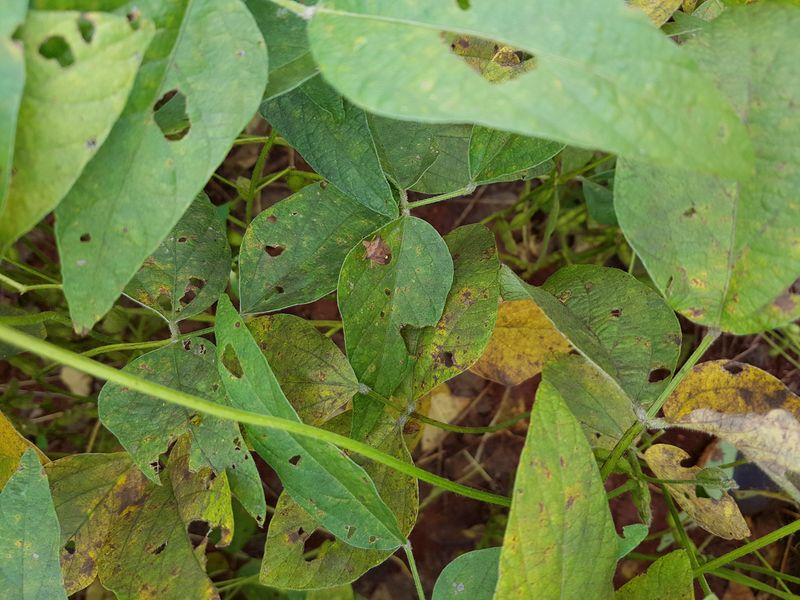Euschistus_heros_adulto: (354, 230, 398, 274)
